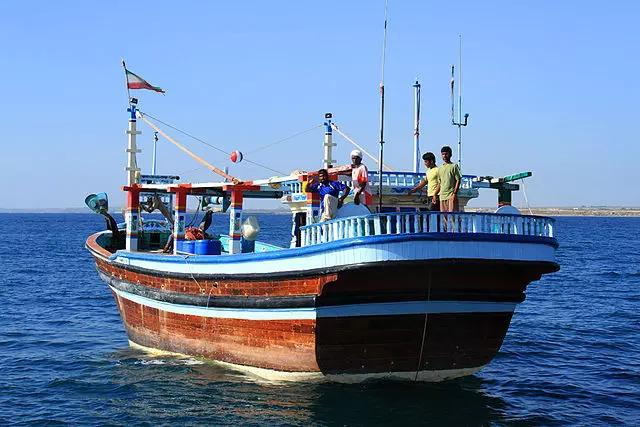fishing boat: (84, 18, 564, 384)
